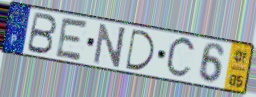6: (197, 41, 226, 86)
B: (25, 11, 59, 56)
C: (164, 35, 198, 81)
D: (124, 28, 157, 73)
E: (53, 16, 90, 64)
N: (92, 22, 129, 69)
